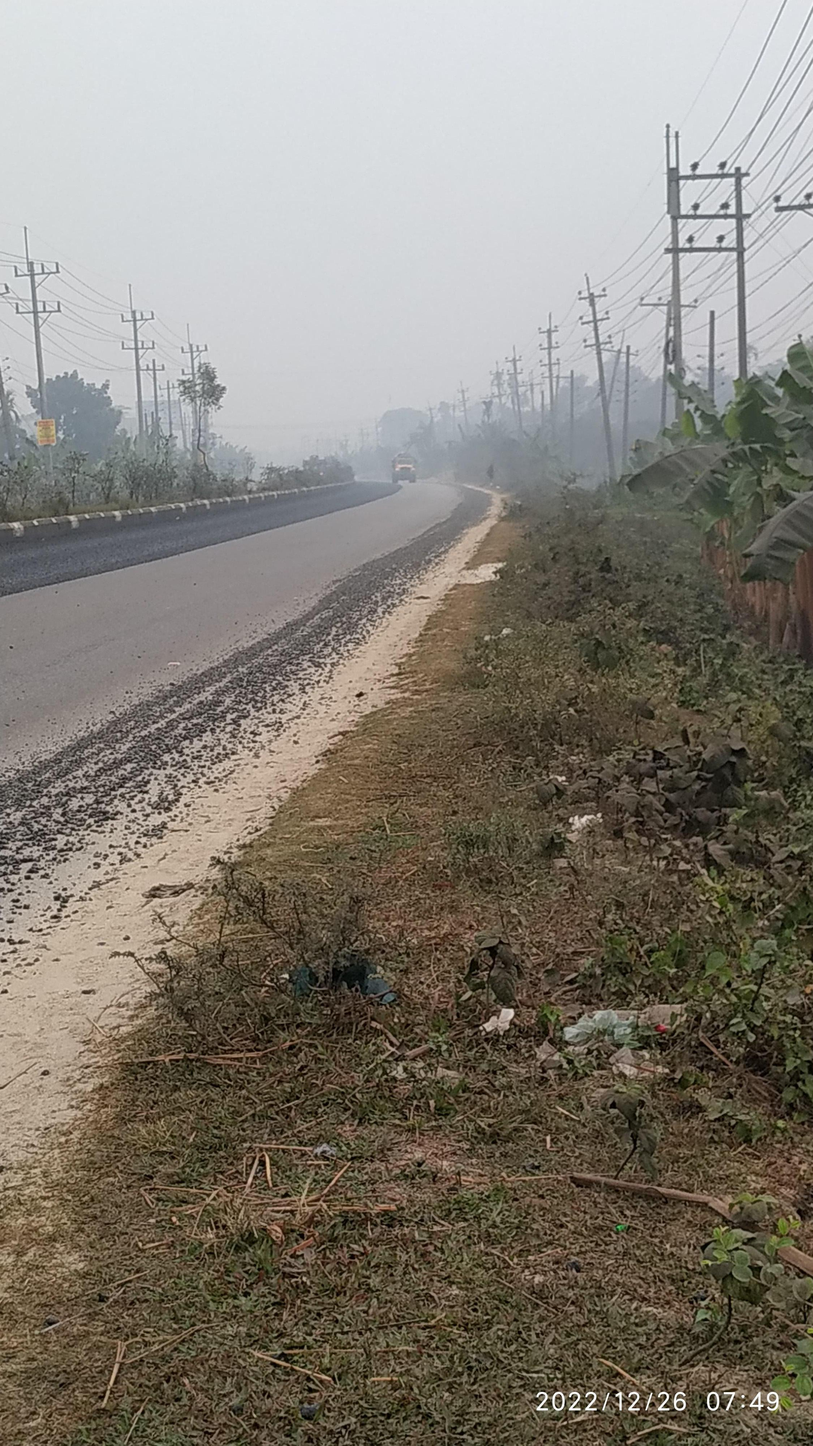Truck: (378, 438, 425, 488)
